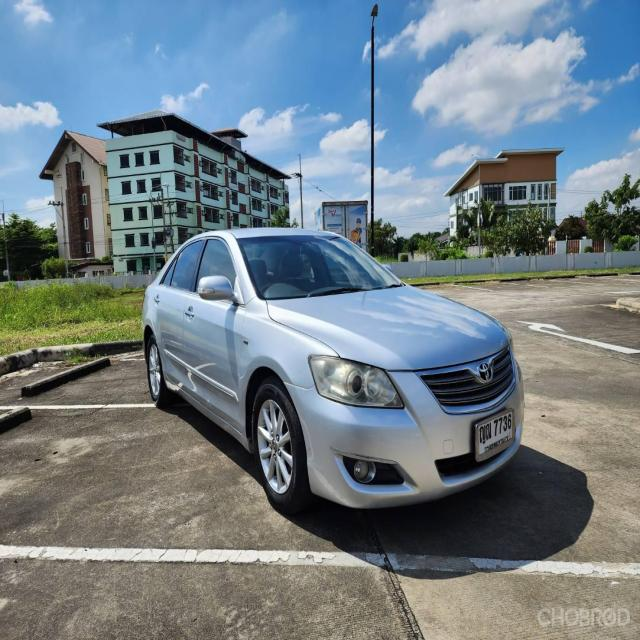license_plate: (473, 406, 516, 464)
